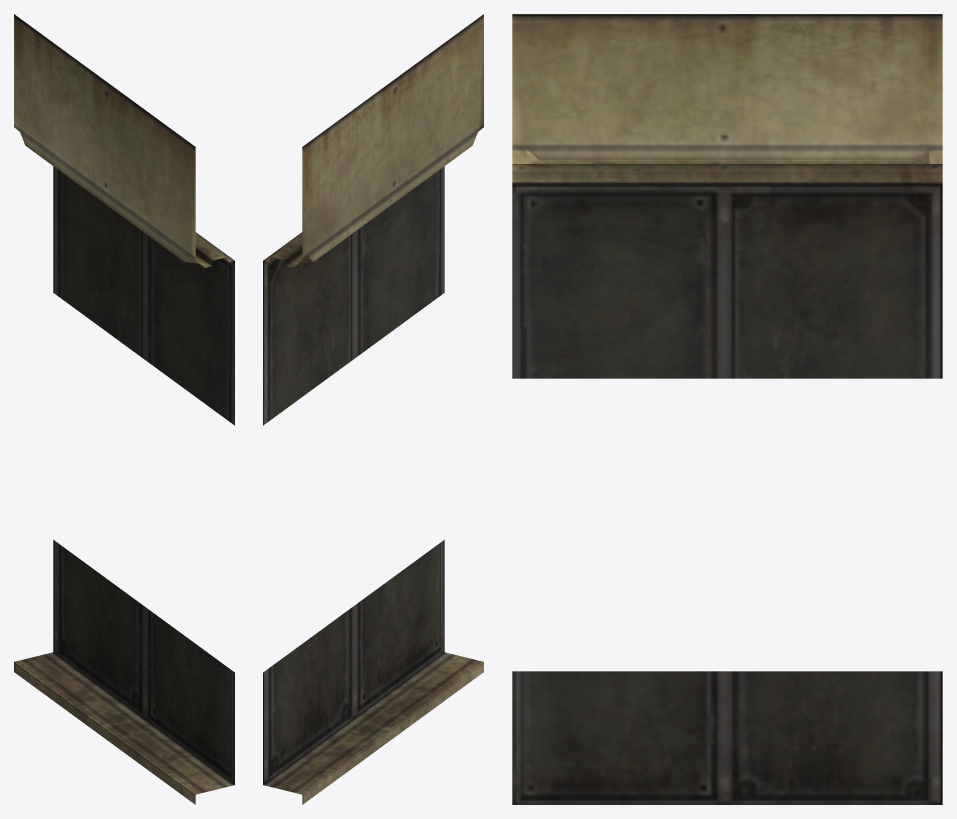
File: pplant_ground_short_tunnel_exit_low.dae
The picture shows the model from 3 angles, left to right: view 1: azimuth 30°, elevation 25°; view 2: azimuth 150°, elevation 25°; view 3: azimuth 270°, elevation 25°; orthographic projection. The views are drawn at different scales.
Visible parts, largest first — view 1: ground_short_tunnel_exit; view 2: ground_short_tunnel_exit; view 3: ground_short_tunnel_exit.
Boxes of the visible parts, left/top/right/bottom form: ground_short_tunnel_exit: left=14, top=14, right=234, bottom=804; ground_short_tunnel_exit: left=263, top=14, right=483, bottom=804; ground_short_tunnel_exit: left=512, top=14, right=942, bottom=804.
Size of the model in its own units: 0.25 by 4 by 2.
1 material, 1 textured.
